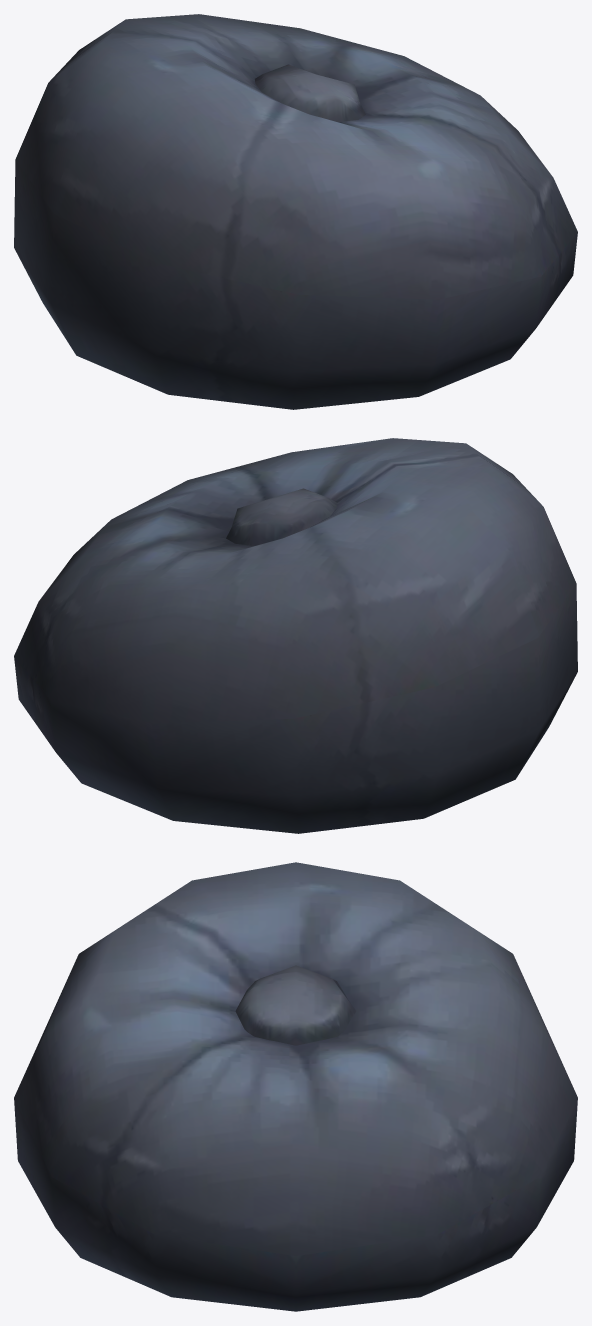
3 renders of one model, top to bottom at view 1: azimuth 30°, elevation 25°; view 2: azimuth 150°, elevation 25°; view 3: azimuth 270°, elevation 25°, orthographic.
Bounding box in the file's own units: 1.39 × 0.8043 × 1.4.
Materials: 1 (1 with a texture image).
